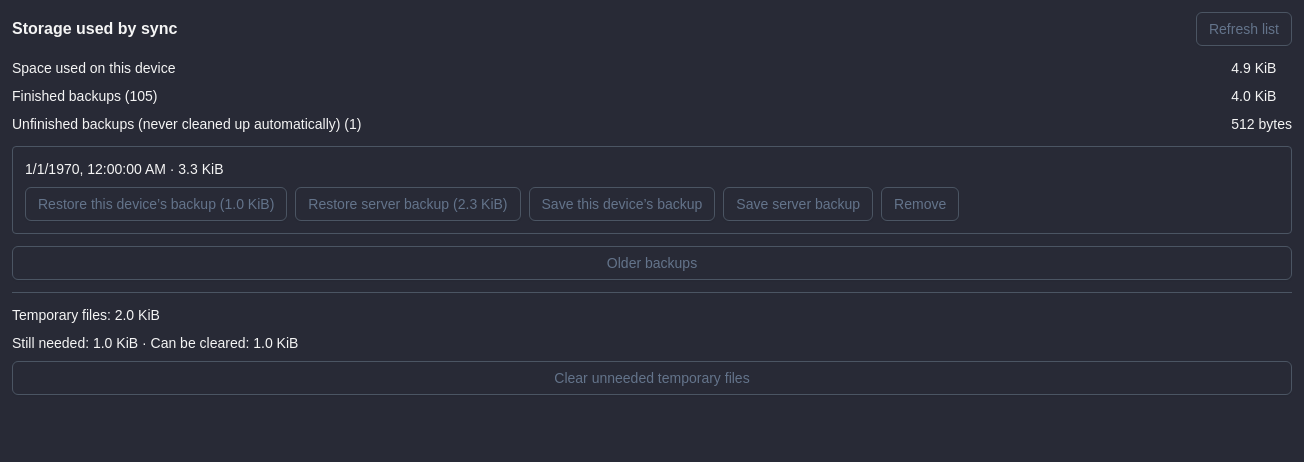
Scenario: shared local server storage management › rechecks listing after refresh and disables deletion, restoration and cache cleanup when native reports protection
Expected: the button "Clear unneeded temporary files" is shown, left=12, top=361, right=1292, bottom=395
Click the button "Refresh list" at (1244, 29), box left=1196, top=12, right=1292, bottom=46
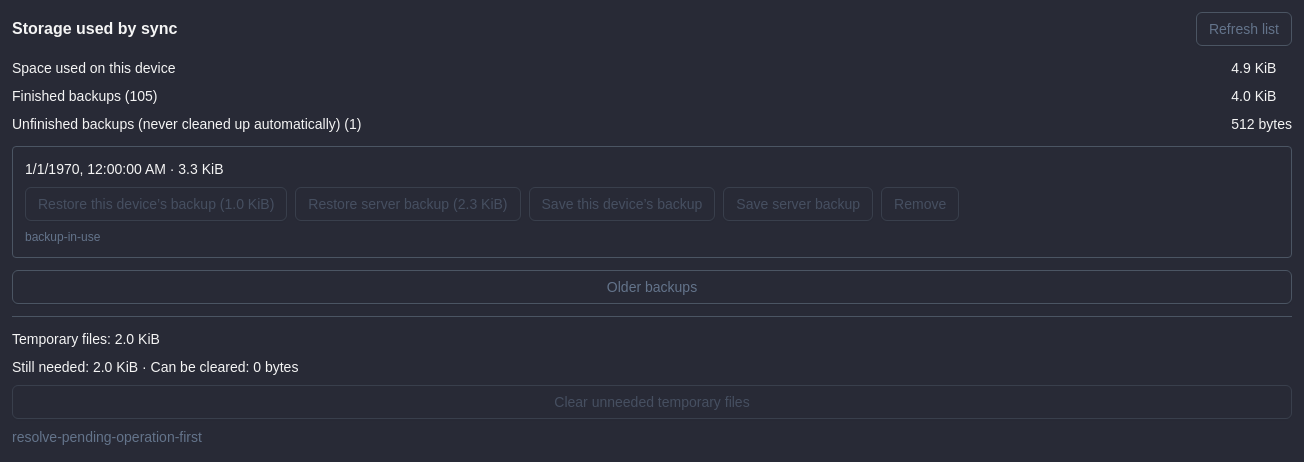
Expected: the button "Remove" is disabled, left=881, top=187, right=959, bottom=221
Expected: the button "Restore this device’s backup (1.0 KiB)" is disabled, left=25, top=187, right=287, bottom=221
Expected: the button "Clear unneeded temporary files" is disabled, left=12, top=385, right=1292, bottom=419
